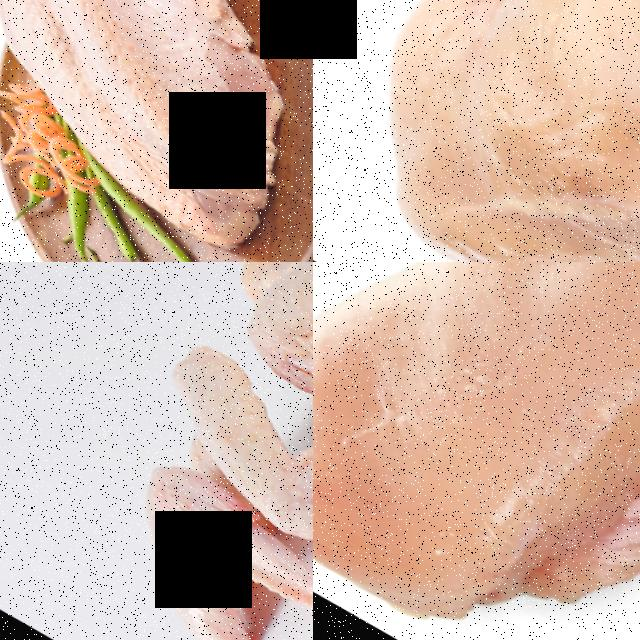chicken breast: (313, 262, 640, 640), (313, 0, 640, 262), (0, 0, 313, 232)
chicken wing: (106, 297, 313, 577), (69, 440, 313, 640), (182, 262, 313, 440)
